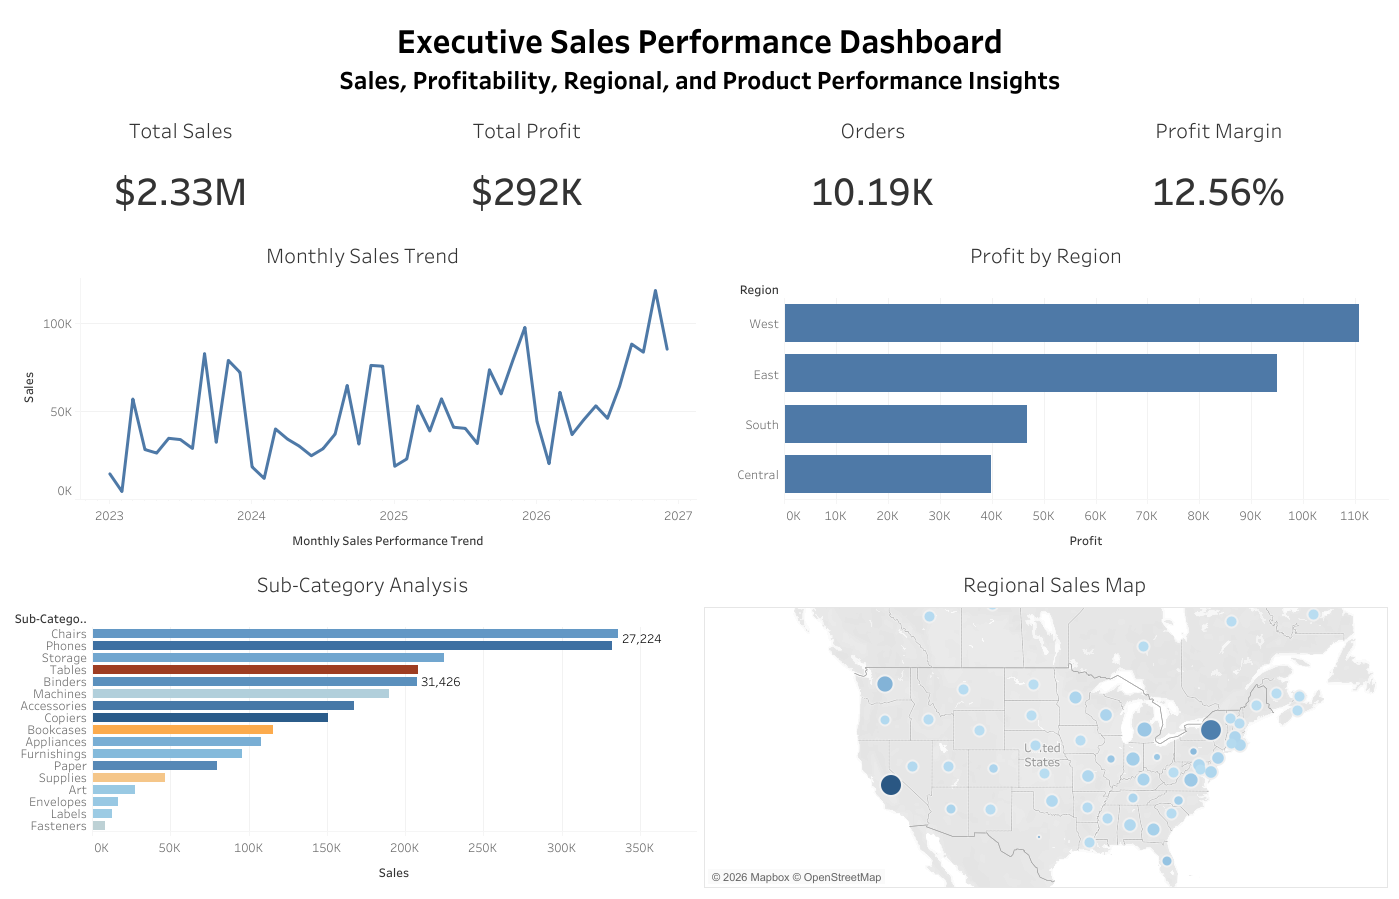

What the dashboard file says about the page in this screenshot:
{"tool":"tableau","page":{"name":"    Executive Sales Dashboard","canvas":[1400,900],"ordinal":0},"visuals":[{"type":"text","box":[8,8,1384,98]},{"type":"worksheet","title":"Total Sales KPI","mark":"Automatic","box":[8,106,346,125]},{"type":"worksheet","title":"Total Profit KPI","mark":"Automatic","box":[354,106,346,125]},{"type":"worksheet","title":"    Total Orders KPI","mark":"Automatic","box":[700,106,346,125]},{"type":"worksheet","title":"Profit Margin %","mark":"Automatic","box":[1046,106,346,125]},{"type":"worksheet","title":"    Monthly Sales Trend","mark":"Automatic","rows":["Sales"],"cols":["Order Date"],"box":[8,231,692,329]},{"type":"worksheet","title":"Profit by Region","mark":"Automatic","rows":["Region"],"cols":["Profit"],"box":[700,231,692,329]},{"type":"worksheet","title":"    Sub-Category Analysis","mark":"Automatic","rows":["Sub-Category"],"cols":["Sales"],"box":[8,560,692,332]},{"type":"worksheet","title":"    Regional Sales Map","mark":"Automatic","box":[700,560,692,332]}]}

Visuals, with their boxes in screenshot pixels (x1, y1, x2, y2), scaled from the page's 1400x900 canvas onto the 1399x899 screenshot:
text: left=8, top=8, right=1391, bottom=106
"Total Sales KPI" worksheet: left=8, top=106, right=354, bottom=231
"Total Profit KPI" worksheet: left=354, top=106, right=700, bottom=231
"    Total Orders KPI" worksheet: left=700, top=106, right=1045, bottom=231
"Profit Margin %" worksheet: left=1045, top=106, right=1391, bottom=231
"    Monthly Sales Trend" worksheet: left=8, top=231, right=700, bottom=559
"Profit by Region" worksheet: left=700, top=231, right=1391, bottom=559
"    Sub-Category Analysis" worksheet: left=8, top=559, right=700, bottom=891
"    Regional Sales Map" worksheet: left=700, top=559, right=1391, bottom=891
